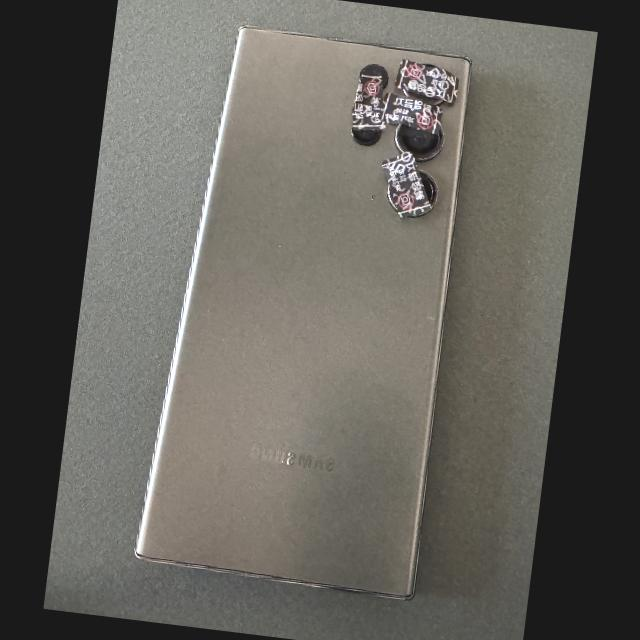lens: (394, 123, 442, 159), (416, 168, 436, 208), (362, 65, 386, 88), (405, 92, 440, 104)
phone: (135, 27, 469, 598)
sticker: (383, 151, 432, 218), (394, 59, 459, 106), (376, 93, 441, 136), (352, 70, 384, 132)
